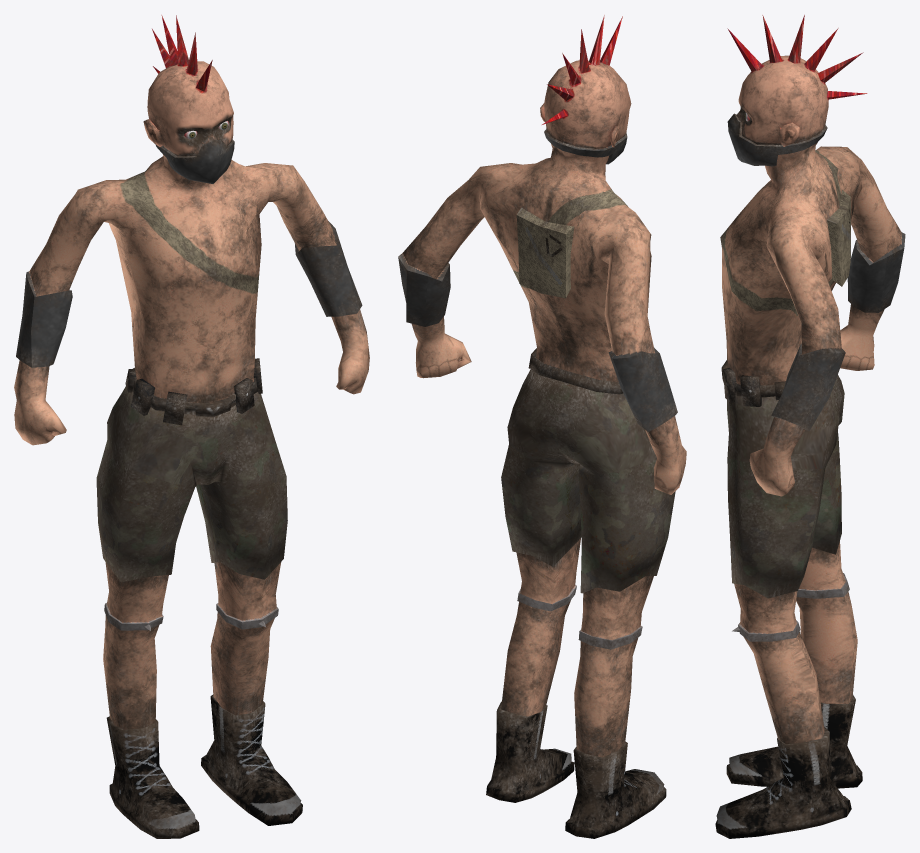
File: Anim_ataque_f2_npc2.0009.obj
The picture shows the model from 3 angles, left to right: view 1: azimuth 30°, elevation 25°; view 2: azimuth 150°, elevation 25°; view 3: azimuth 270°, elevation 25°; orthographic projection.
Parts seen in each view (by area): view 1: polySurface1; view 2: polySurface1; view 3: polySurface1.
Boxes of the visible parts, x1,y1,x2,y2 form: polySurface1: (14, 15, 369, 838); polySurface1: (398, 15, 686, 838); polySurface1: (715, 15, 905, 838).
Size of the model in its own units: 4.17 by 10.21 by 2.24.
